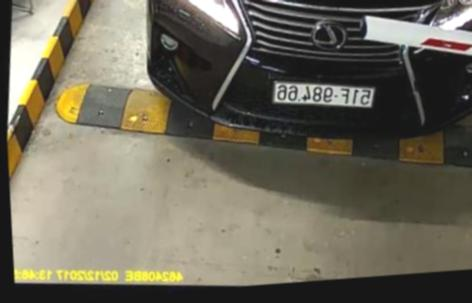License_Plate: (266, 65, 386, 127)
